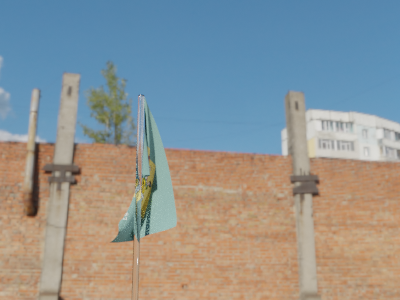Delaware flag: (111, 93, 180, 244)
